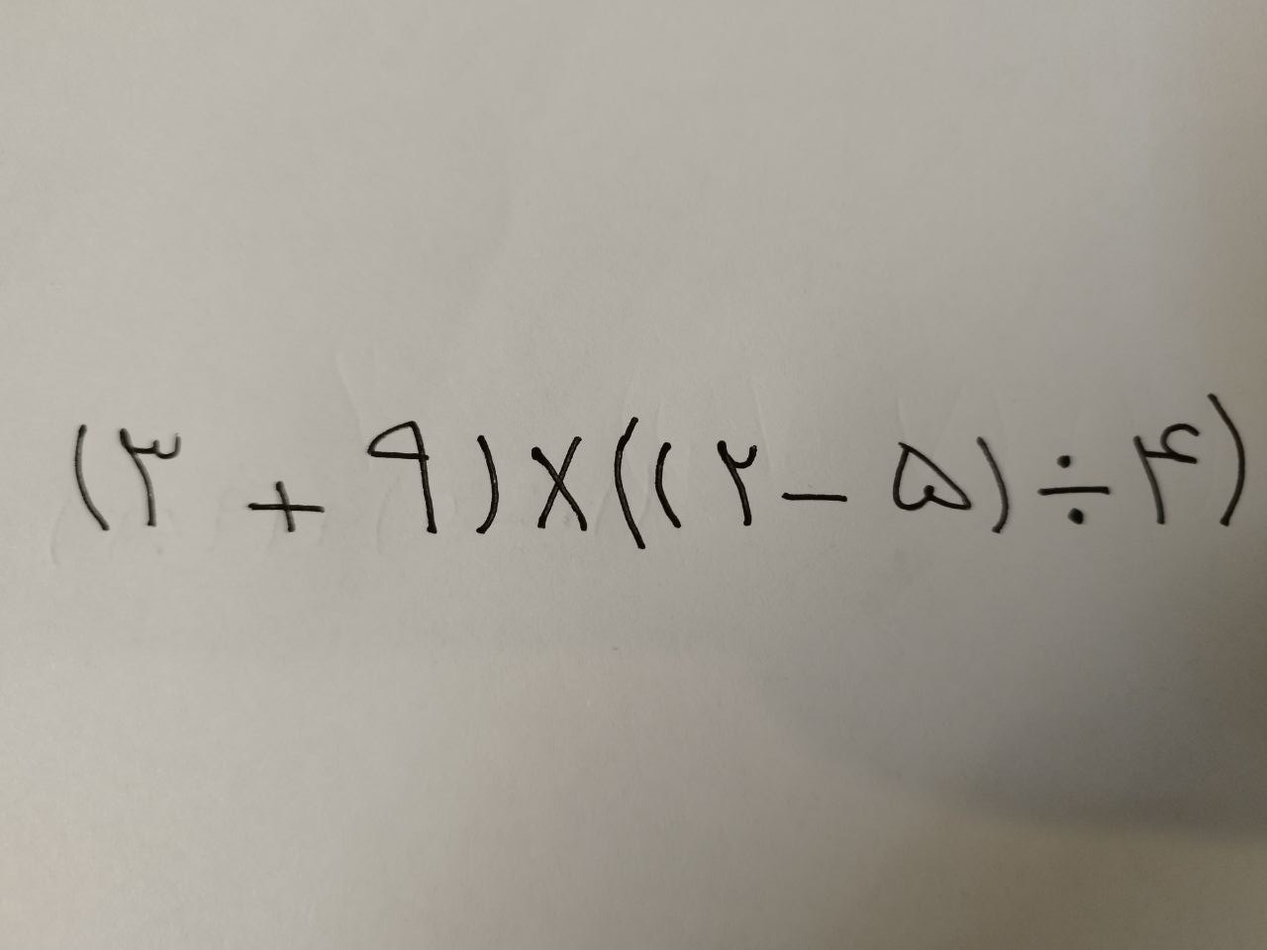character: (488, 315, 584, 401), (157, 321, 243, 396), (706, 326, 785, 399), (815, 311, 863, 414), (95, 316, 150, 401), (327, 361, 436, 401), (1188, 331, 1267, 384), (954, 330, 1013, 396), (871, 330, 910, 397), (633, 325, 667, 400), (1041, 368, 1133, 378)
